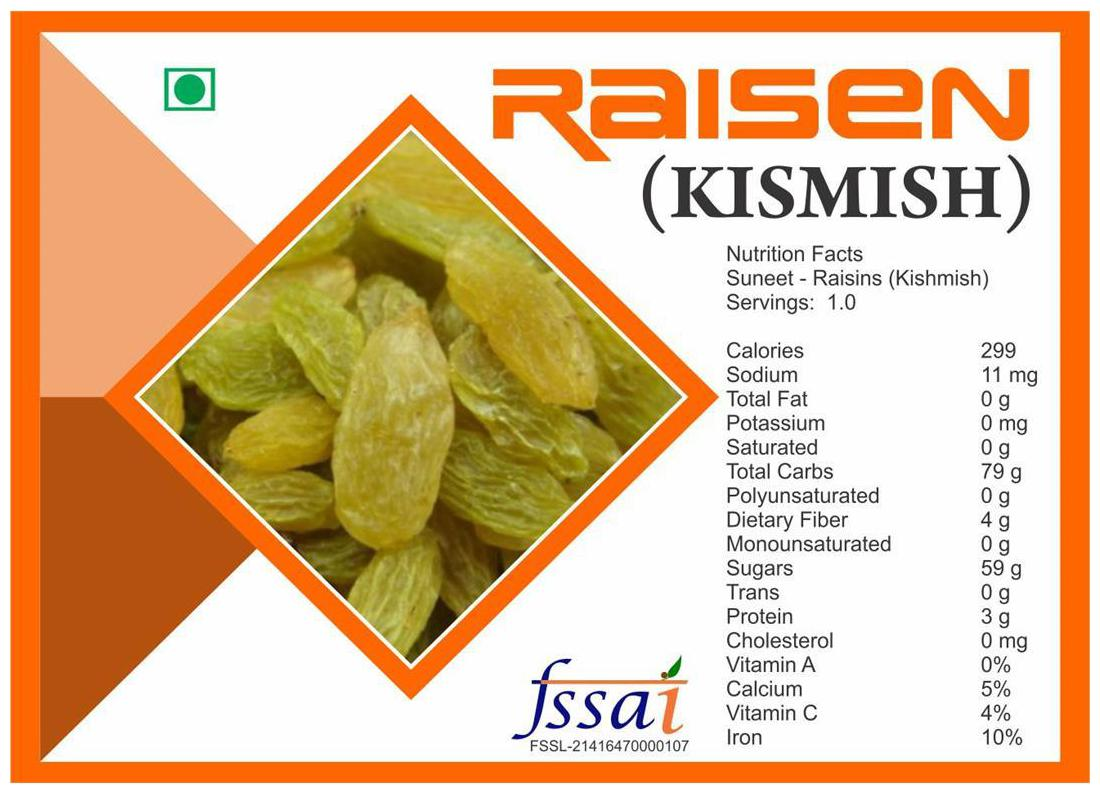fssai: (511, 654, 691, 741)
